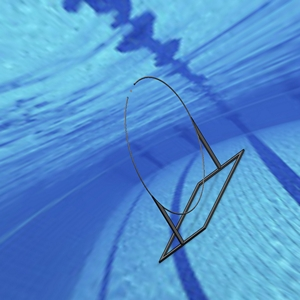circle: (123, 75, 244, 262)
